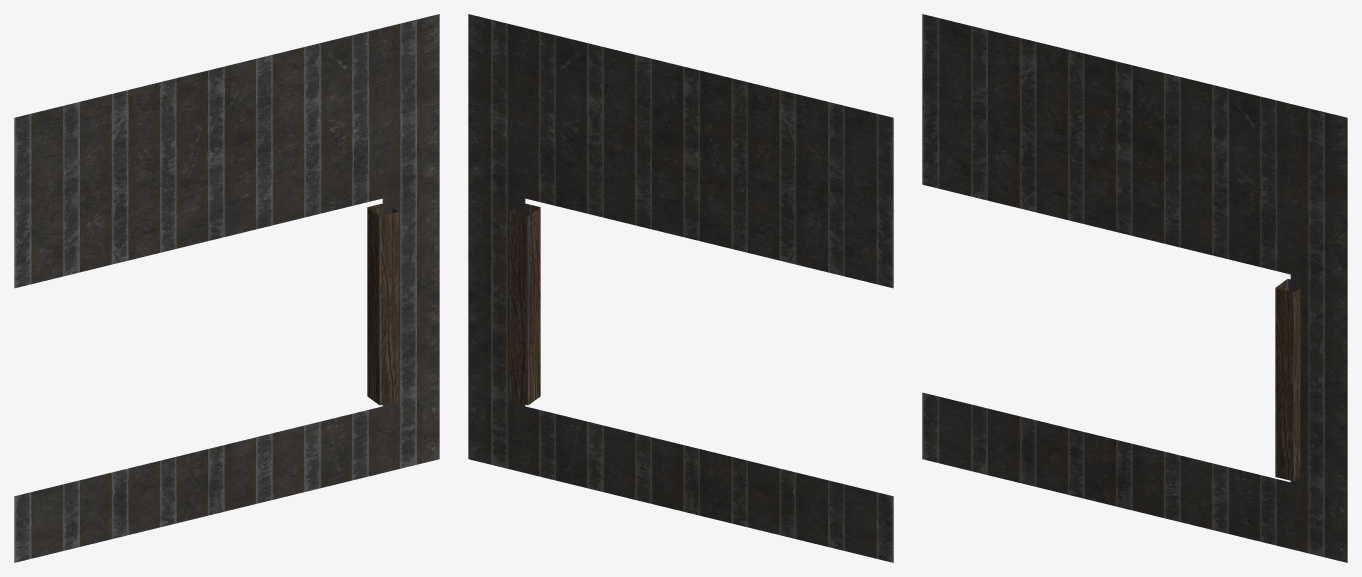
The model's file is window_end.fbx.
The picture shows the model from 3 angles, left to right: view 1: azimuth 30°, elevation 25°; view 2: azimuth 150°, elevation 25°; view 3: azimuth 330°, elevation 25°; orthographic projection.
Visible parts, largest first — view 1: window_end; view 2: window_end; view 3: window_end.
Part boxes in pixels (box(x1,y1,x2,y2)): window_end: box(14, 14, 439, 562); window_end: box(468, 14, 893, 562); window_end: box(922, 14, 1347, 562).
Size of the model in its own units: 400 by 400 by 20.34.
